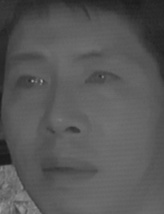eye: (81, 66, 122, 90), (10, 72, 51, 93)
mouth: (36, 148, 99, 189)
